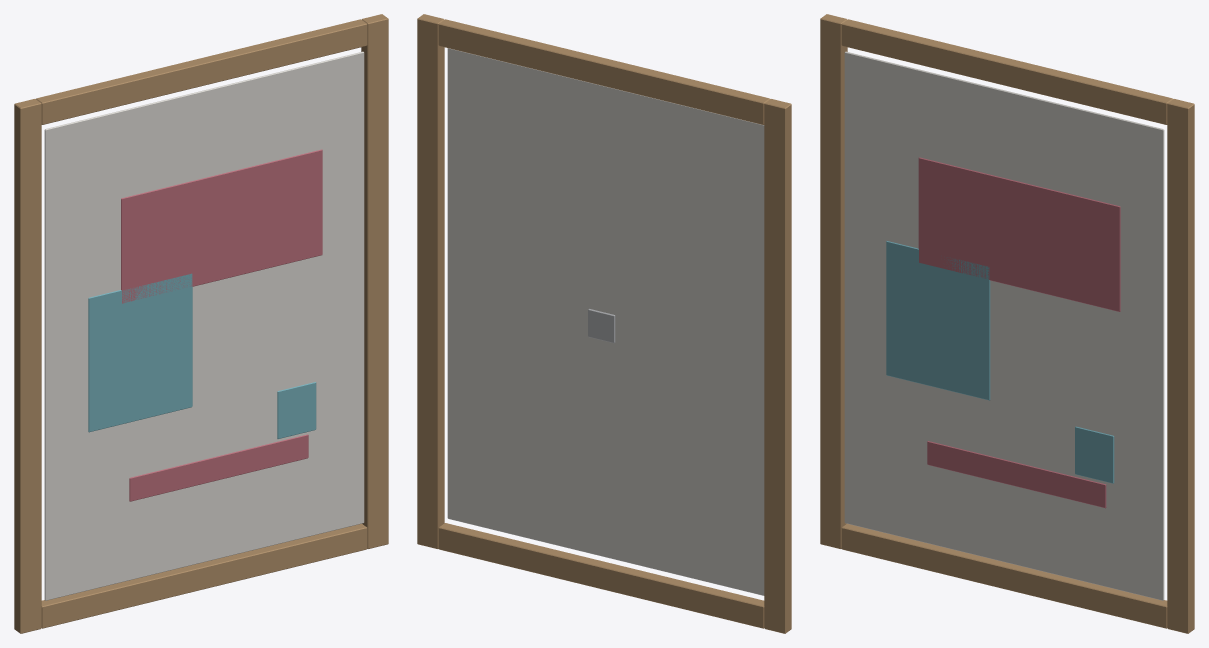
The model's file is prop_poster_frame_md_01.glb.
3 renders of one model, left to right at view 1: azimuth 30°, elevation 25°; view 2: azimuth 150°, elevation 25°; view 3: azimuth 330°, elevation 25°, orthographic.
Parts seen in each view (by area): view 1: prop_poster_frame_md_01; view 2: prop_poster_frame_md_01; view 3: prop_poster_frame_md_01.
Boxes of the visible parts, x1,y1,x2,y2 form: prop_poster_frame_md_01: (14,14,388,633); prop_poster_frame_md_01: (417,14,791,633); prop_poster_frame_md_01: (820,14,1194,633).
Bounding box in the file's own units: 0.55 × 0.75 × 0.02.
